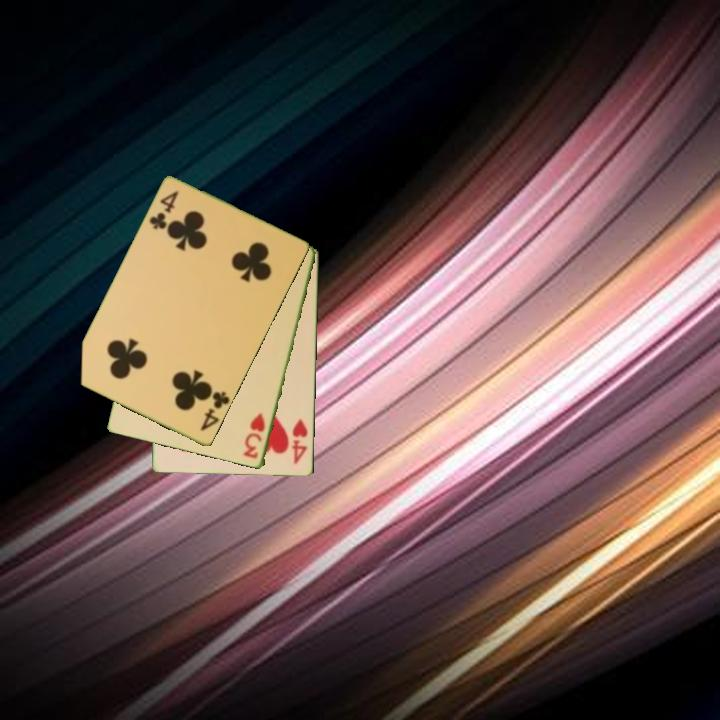3h: (240, 410, 268, 462)
4c: (146, 187, 182, 233), (197, 388, 232, 435)
4h: (288, 416, 311, 467)
